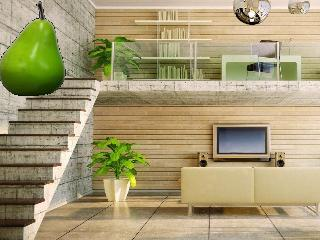pear: (0, 0, 70, 100)
